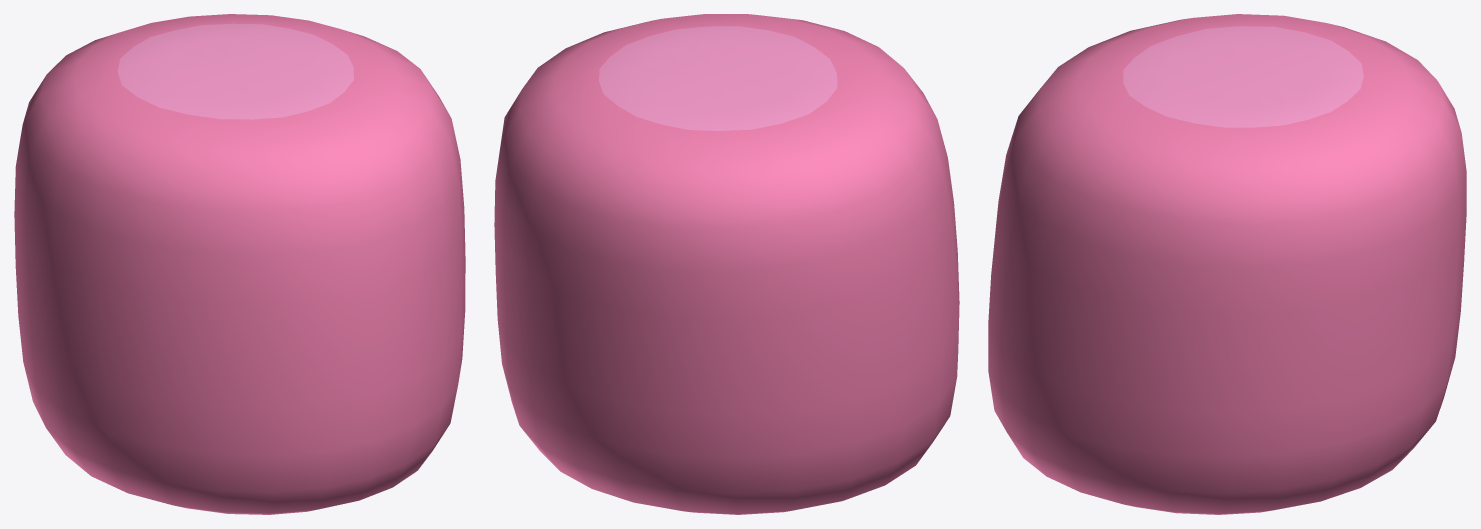
The model's file is Marshmallow_B_01.fbx.
The picture shows the model from 3 angles, left to right: view 1: azimuth 30°, elevation 25°; view 2: azimuth 150°, elevation 25°; view 3: azimuth 270°, elevation 25°; orthographic projection. The views are drawn at different scales.
Visible parts, largest first — view 1: Marshmallow_B_01_LOD0; view 2: Marshmallow_B_01_LOD0; view 3: Marshmallow_B_01_LOD0.
Boxes of the visible parts, x1,y1,x2,y2 form: Marshmallow_B_01_LOD0: (14, 14, 465, 514); Marshmallow_B_01_LOD0: (494, 14, 959, 514); Marshmallow_B_01_LOD0: (988, 14, 1466, 514).
Size of what is drawn, in the model's own units: 410 by 379 by 430.
